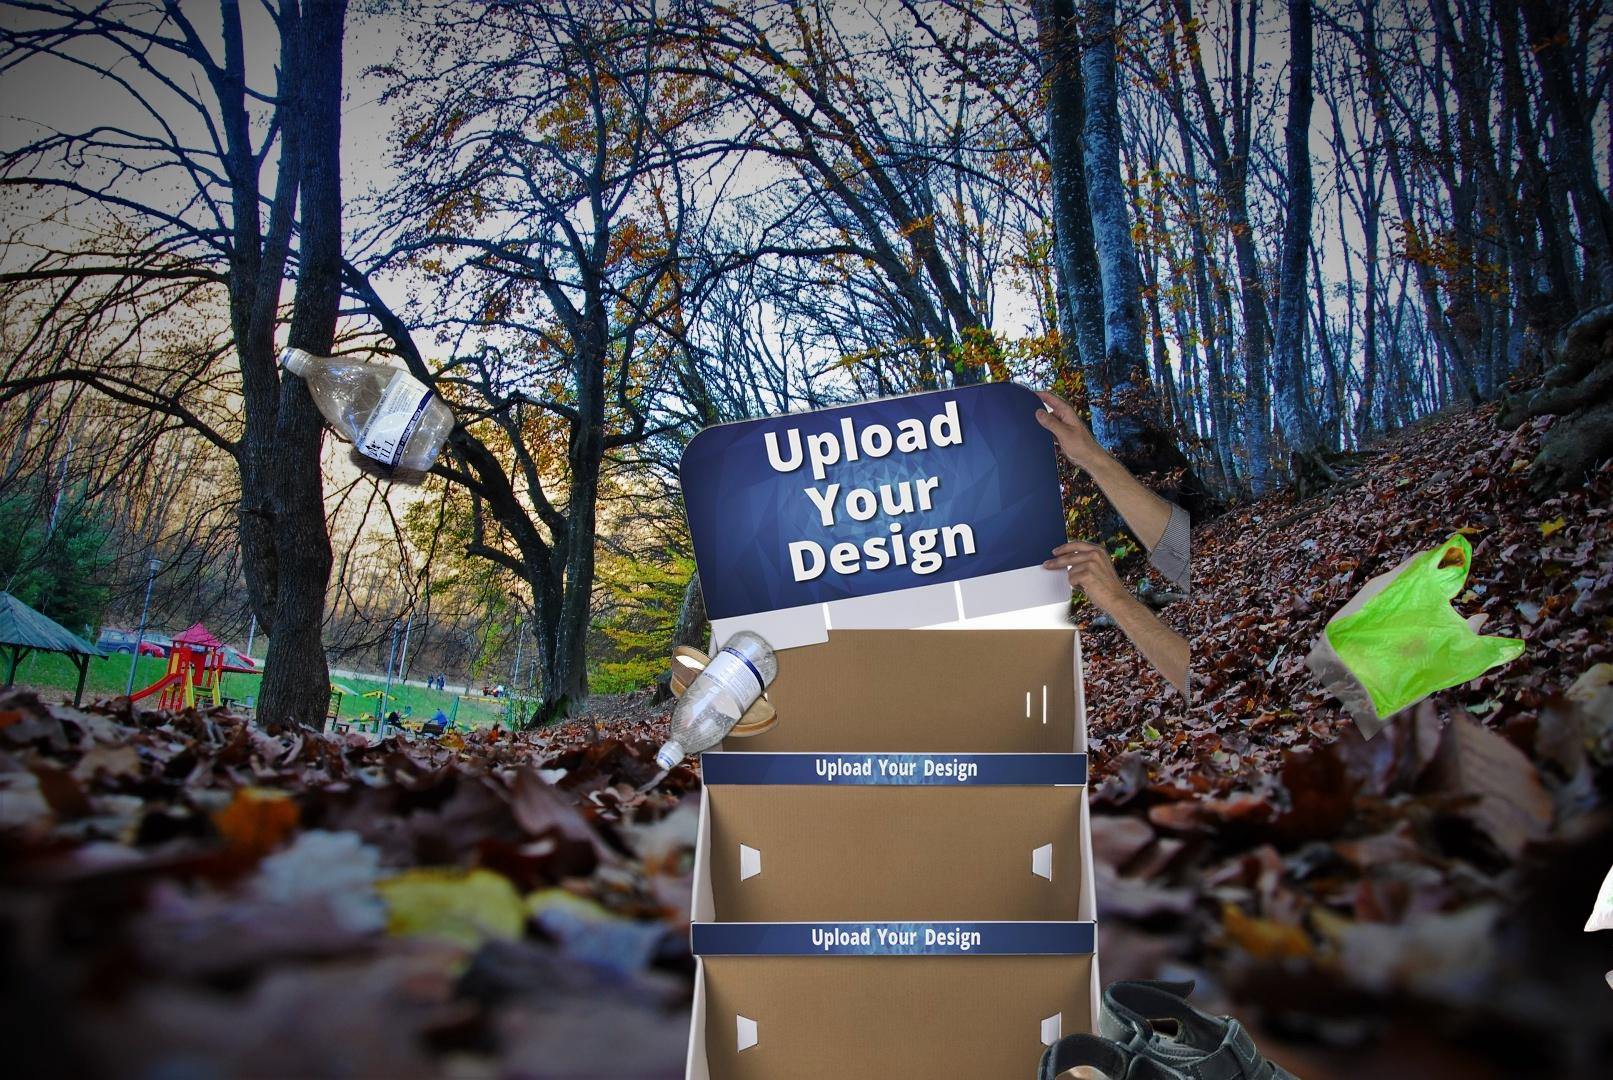plastic-bag: (1300, 532, 1529, 745), (1582, 838, 1613, 1031)
plastic-bottles: (275, 341, 459, 491), (651, 626, 784, 788)
shoes: (1021, 974, 1402, 1080), (667, 642, 780, 740)
trashbox-cardboard: (671, 371, 1190, 1080)
